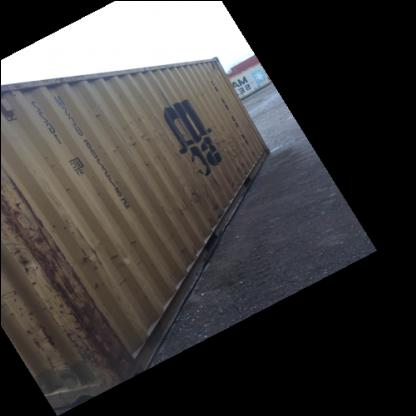Damage: (1, 194, 132, 386), (180, 167, 223, 216), (104, 121, 165, 151), (210, 124, 246, 158)
